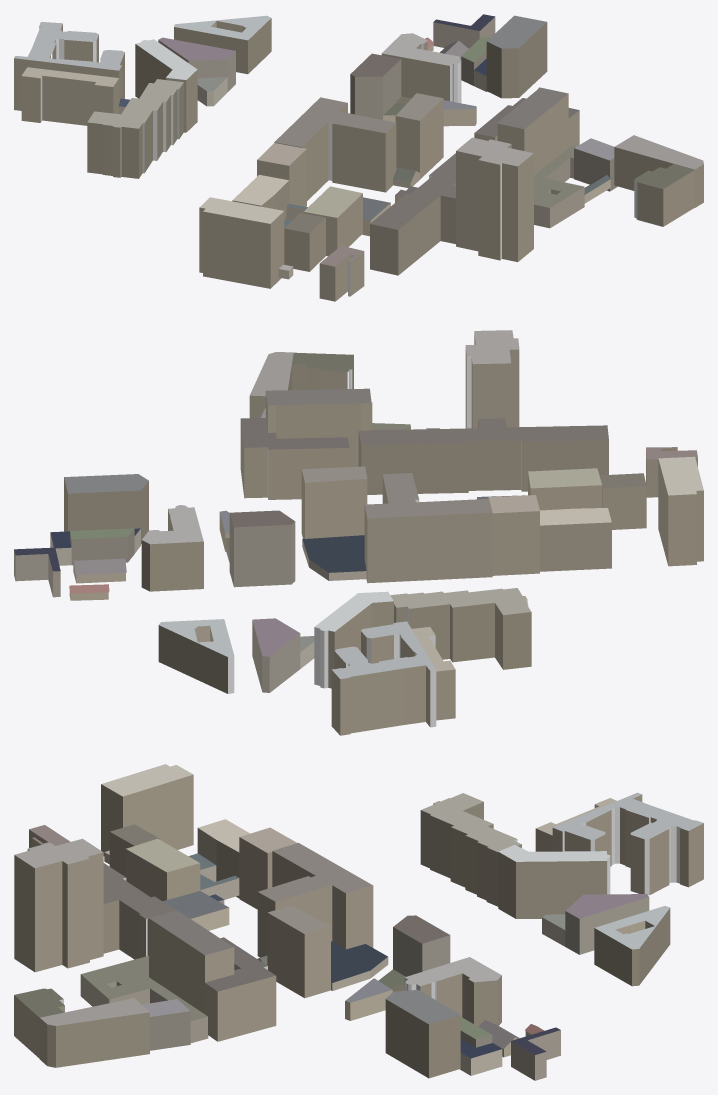
3 renders of one model, top to bottom at view 1: azimuth 30°, elevation 25°; view 2: azimuth 150°, elevation 25°; view 3: azimuth 270°, elevation 25°, orthographic. The views are drawn at different scales.
Parts seen in each view (by area): view 1: tuile; view 2: tuile; view 3: tuile.
Part boxes in pixels (bbox=[...]): tuile: bbox=[14, 14, 703, 301]; tuile: bbox=[14, 330, 703, 735]; tuile: bbox=[14, 764, 703, 1080].
Bounding box in the file's own units: 240 × 50.82 × 283.
